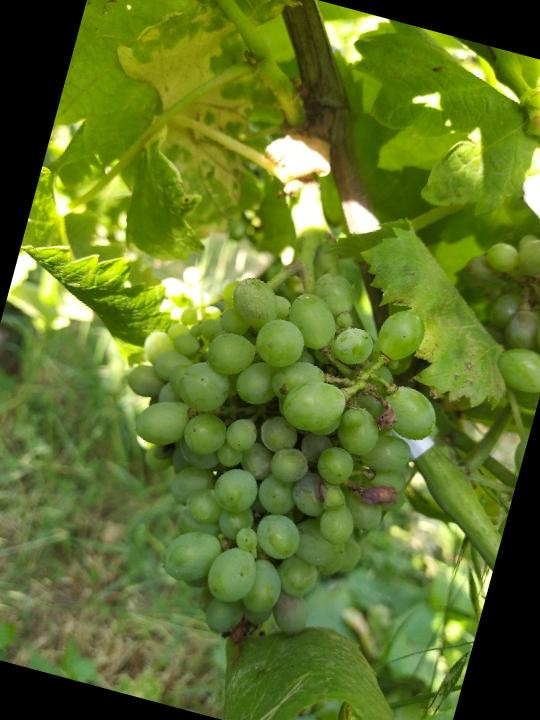grape: (61, 221, 467, 680)
